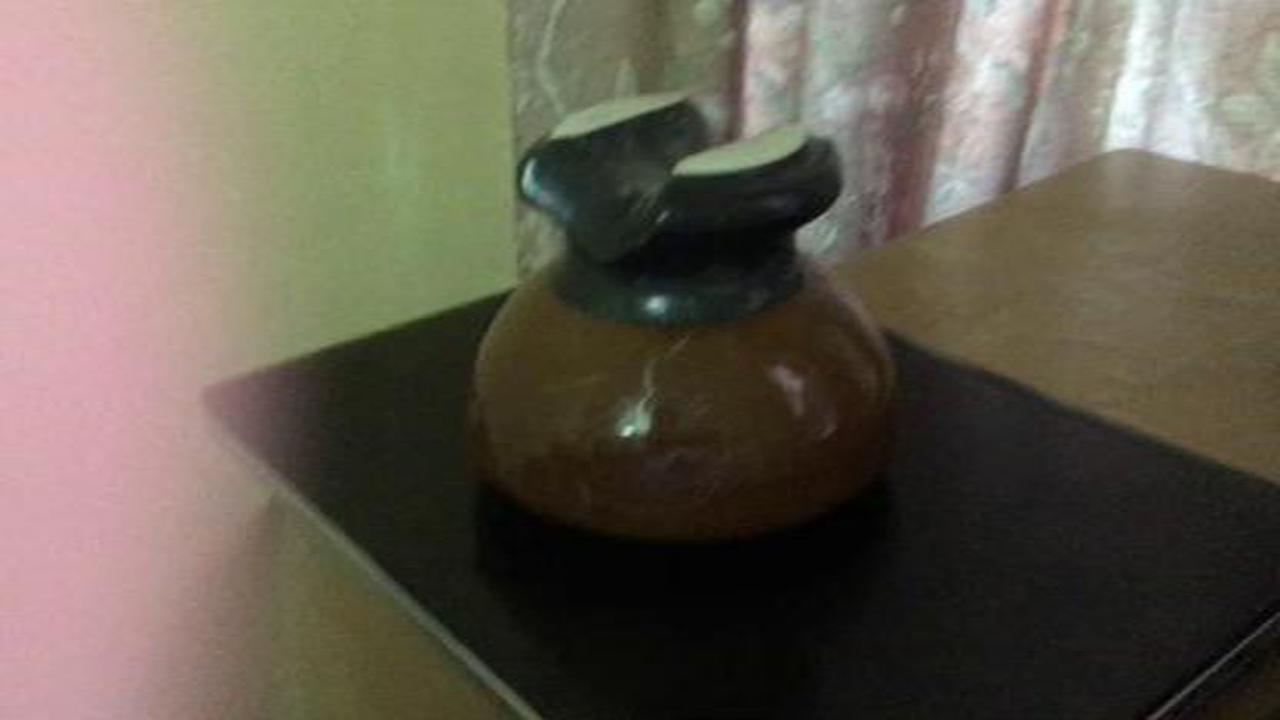insulator_pin: (450, 77, 914, 566)
